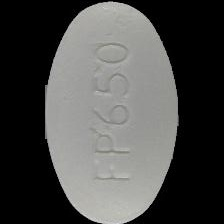66993-121: (0, 0, 224, 224)
